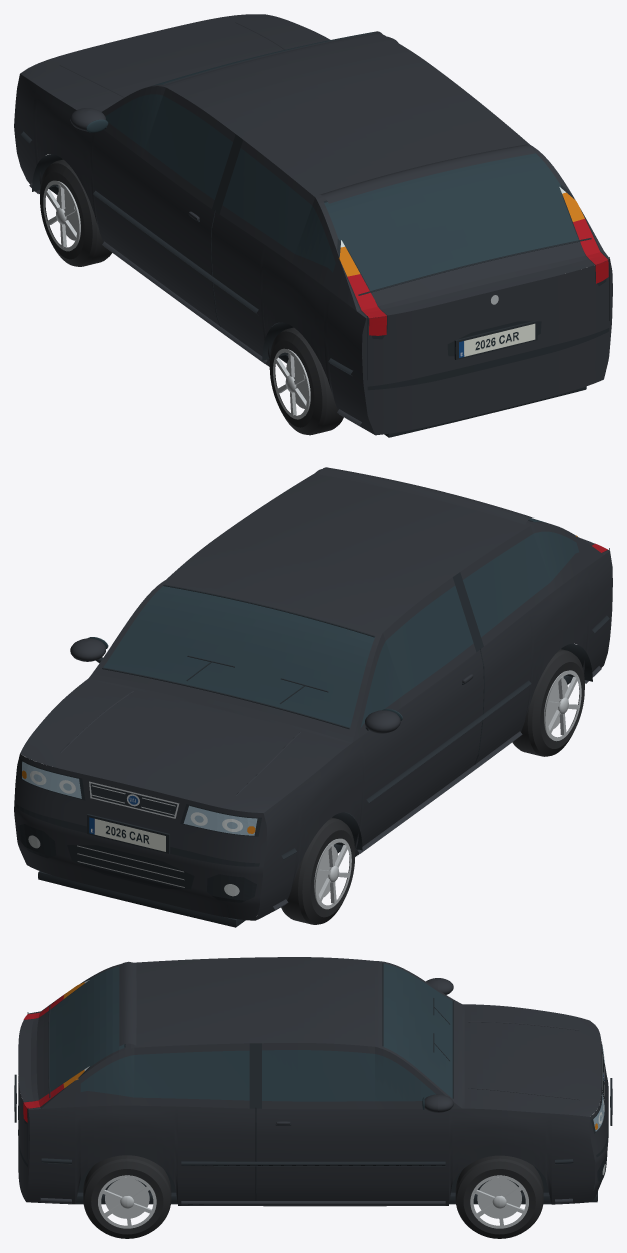
Rendered from Entrega_14_LOD0.glb.
3 renders of one model, top to bottom at view 1: azimuth 30°, elevation 25°; view 2: azimuth 150°, elevation 25°; view 3: azimuth 270°, elevation 25°, orthographic. The views are drawn at different scales.
Parts seen in each view (by area): view 1: Body, Glass, Wheel_RL, Wheel_FL, BrakeLights, Plates; view 2: Body, Glass, Wheel_FL, Wheel_RL, Headlights, Plates; view 3: Body, Glass, Wheel_RR, Wheel_FR, BrakeLights.
Boxes of the visible parts, <box> form: Body: <box>14,14,612,437</box>; Glass: <box>86,32,578,290</box>; Wheel_RL: <box>269,327,343,435</box>; Wheel_FL: <box>40,159,111,266</box>; BrakeLights: <box>347,219,608,318</box>; Plates: <box>459,323,535,357</box>; Body: <box>14,467,612,927</box>; Glass: <box>88,518,578,727</box>; Wheel_FL: <box>281,817,355,924</box>; Wheel_RL: <box>512,649,584,756</box>; Headlights: <box>22,761,257,896</box>; Plates: <box>89,817,165,851</box>; Body: <box>14,957,612,1206</box>; Glass: <box>49,963,452,1109</box>; Wheel_RR: <box>83,1155,171,1238</box>; Wheel_FR: <box>455,1155,543,1238</box>; BrakeLights: <box>23,995,64,1108</box>.
Bounding box in the file's own units: 2.12 × 1.47 × 4.18.
15 materials, 1 textured.
